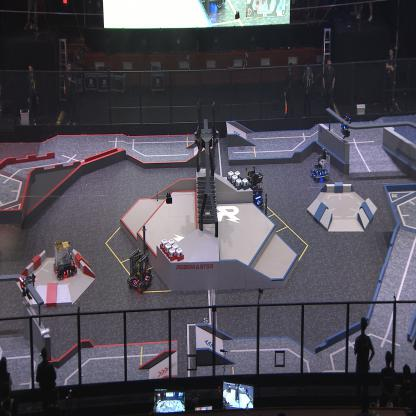car: (126, 247, 153, 293), (53, 238, 77, 280), (245, 168, 266, 209), (310, 148, 331, 182)
